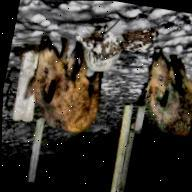boar: (5, 23, 123, 139), (119, 50, 192, 146)
